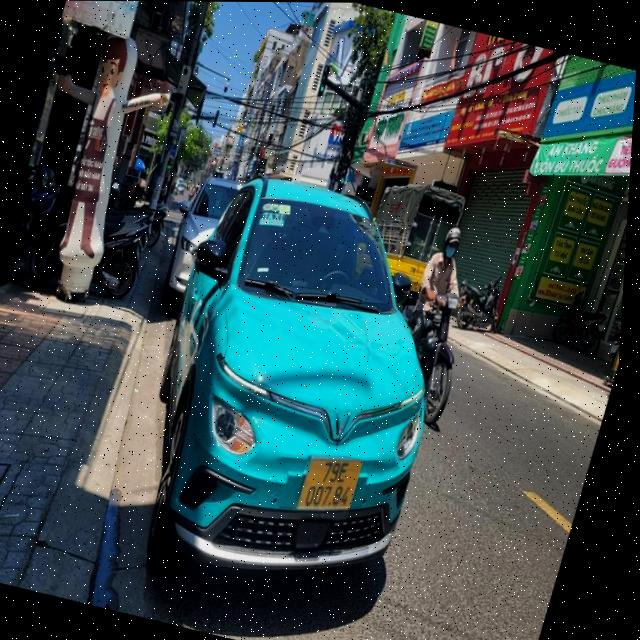car: (91, 160, 502, 620)
plate: (289, 447, 368, 524)
